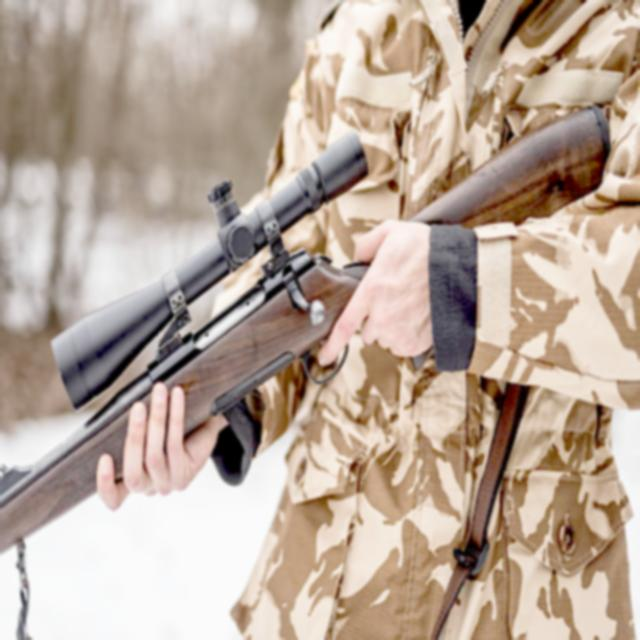rifle: (1, 66, 634, 562)
